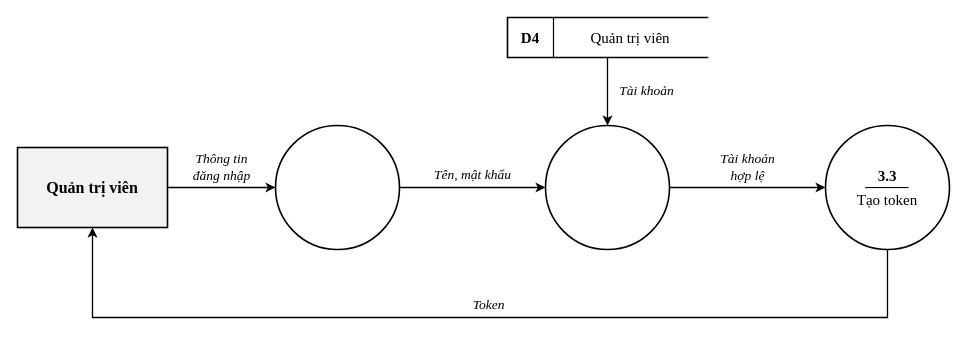
Image size: 968x344. Some labels were removed from this diagram. The shapes that lost their labels are listed below. From the top down, each one's centre as x and y in pixels, then its label:
At point (337, 187): "3.1 Kiểm tra đầu vào".
At point (607, 187): "3.2 Đối chiếu mật khẩu".
